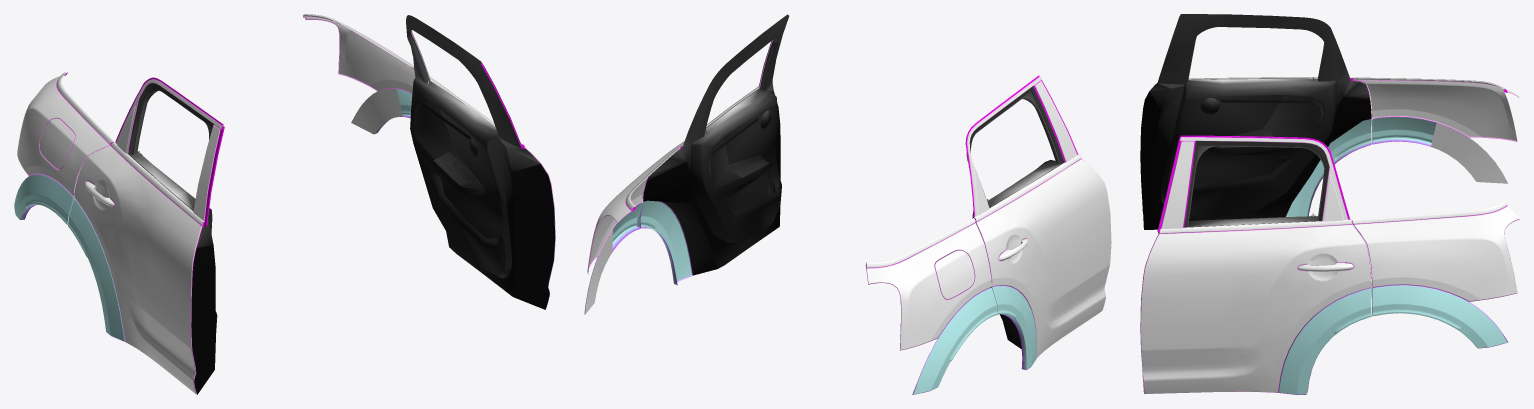
File: Car_Mini_CountrymanJCW_2017_FendersR_SetA_AltB.fbx
3 views of the same model, side by side, from view 1: azimuth 30°, elevation 25°; view 2: azimuth 150°, elevation 25°; view 3: azimuth 270°, elevation 25° (orthographic). The views are drawn at different scales.
Parts seen in each view (by area): view 1: FendersR 6; view 2: FendersR 6; view 3: FendersR 6.
Boxes of the visible parts, x1=… form: FendersR 6: x1=14, y1=14, x2=555, y2=394; FendersR 6: x1=584, y1=14, x2=1111, y2=394; FendersR 6: x1=1140, y1=14, x2=1519, y2=394.
Size of the model in its own units: 1.82 by 1.14 by 1.66.
